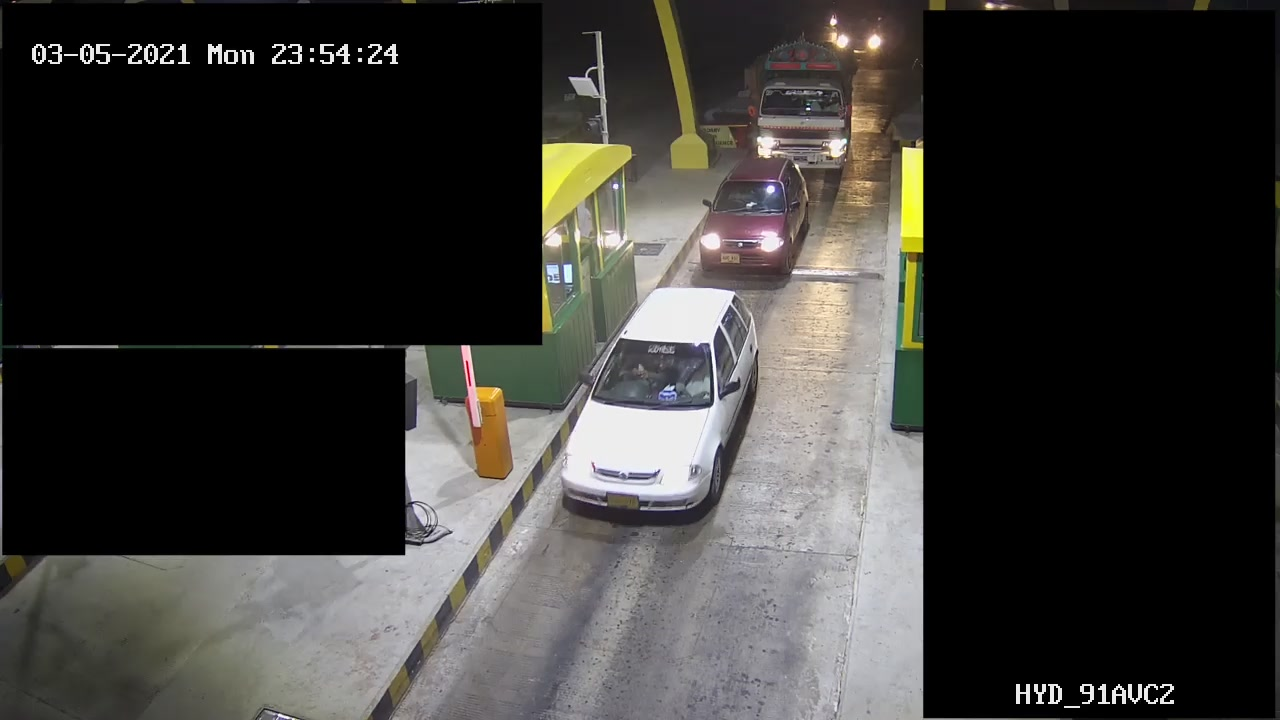F1: (553, 287, 768, 534), (689, 157, 817, 277)
